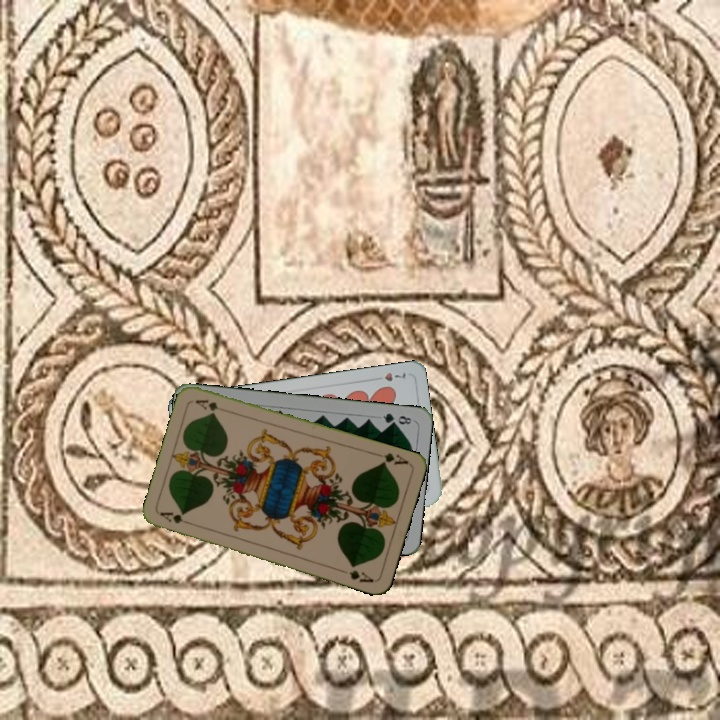G8: (379, 409, 416, 428)
GA: (371, 448, 411, 467), (156, 508, 196, 527)
H7: (380, 368, 408, 384)
